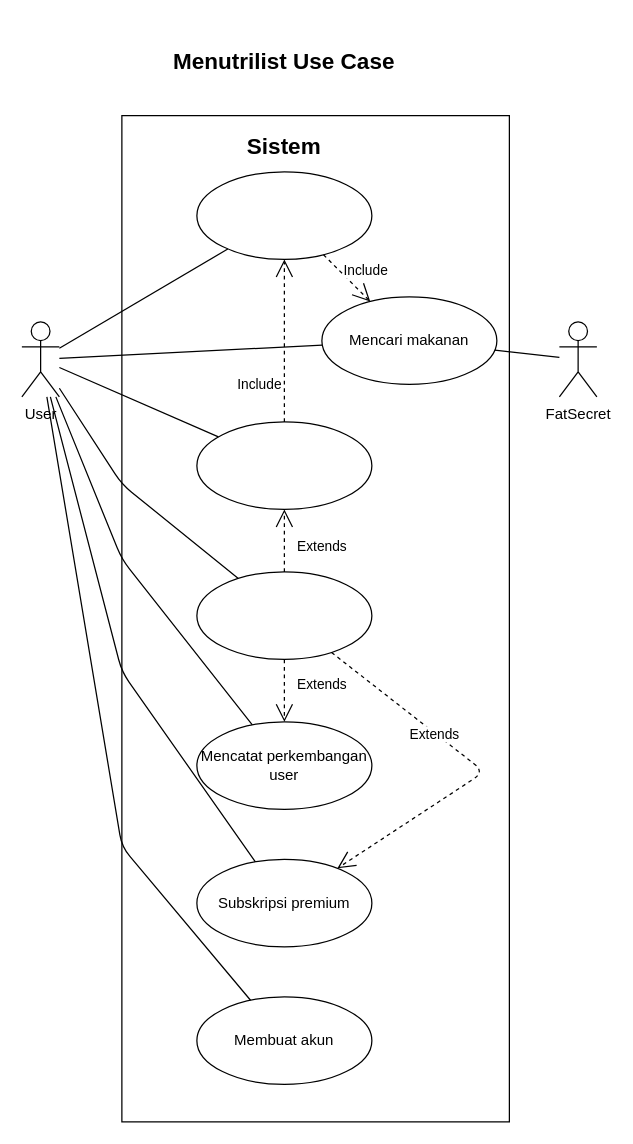
The diagram is 633 pixels wide and 1144 high, and some of its shapes have lost their labels. Each missing label, with the box of its shape:
Login: (196, 571, 372, 659)
Membuat rencana diet: (196, 421, 372, 509)
Menentukan menu makan: (196, 171, 372, 259)
